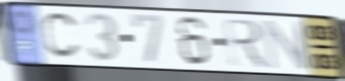3: (83, 11, 122, 65)
6: (175, 15, 212, 69)
7: (128, 13, 169, 67)
C: (40, 11, 82, 61)
N: (261, 19, 313, 72)
R: (221, 16, 271, 71)
